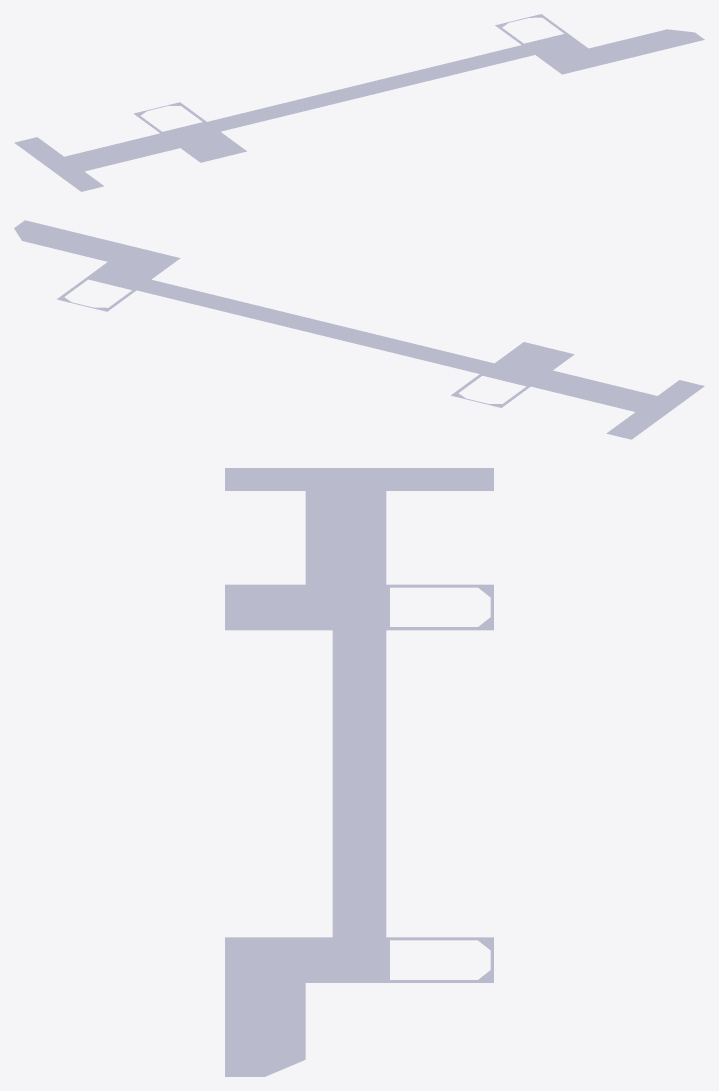
Rendered from Level_03_Floor.fbx.
3 renders of one model, top to bottom at view 1: azimuth 30°, elevation 25°; view 2: azimuth 150°, elevation 25°; view 3: azimuth 270°, elevation 25°, orthographic. The views are drawn at different scales.
Visible parts, largest first — view 1: Level_03_Floor; view 2: Level_03_Floor; view 3: Level_03_Floor.
Part boxes in pixels (bbox=[...]): Level_03_Floor: bbox=[14, 14, 704, 191]; Level_03_Floor: bbox=[14, 220, 704, 439]; Level_03_Floor: bbox=[225, 468, 493, 1076].
Size of the model in its own units: 21400 by 0.000122 by 4000.
